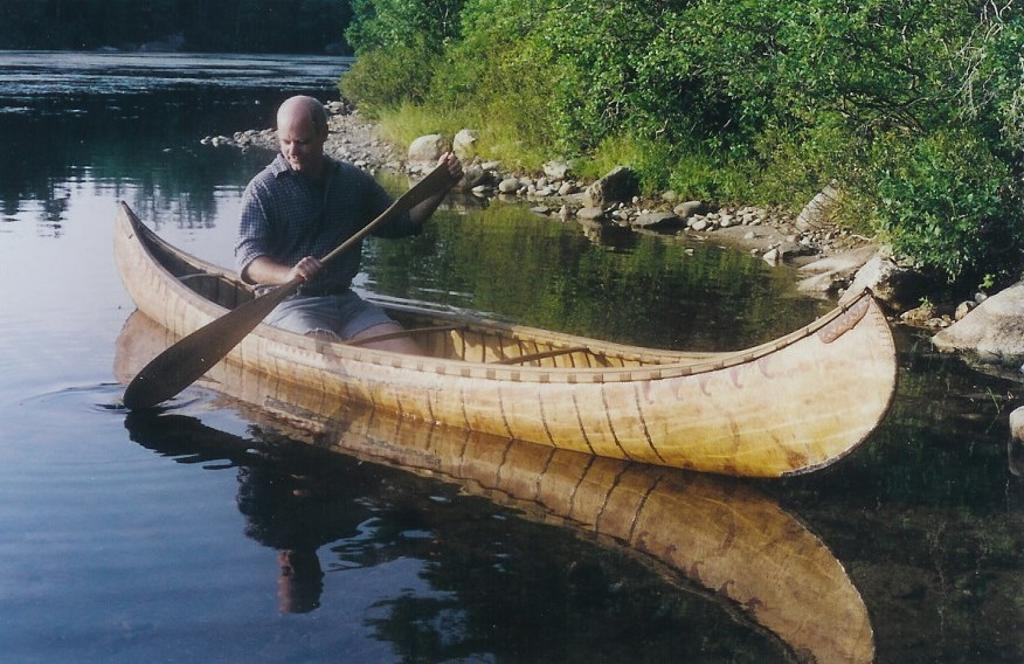face: (279, 122, 322, 171)
